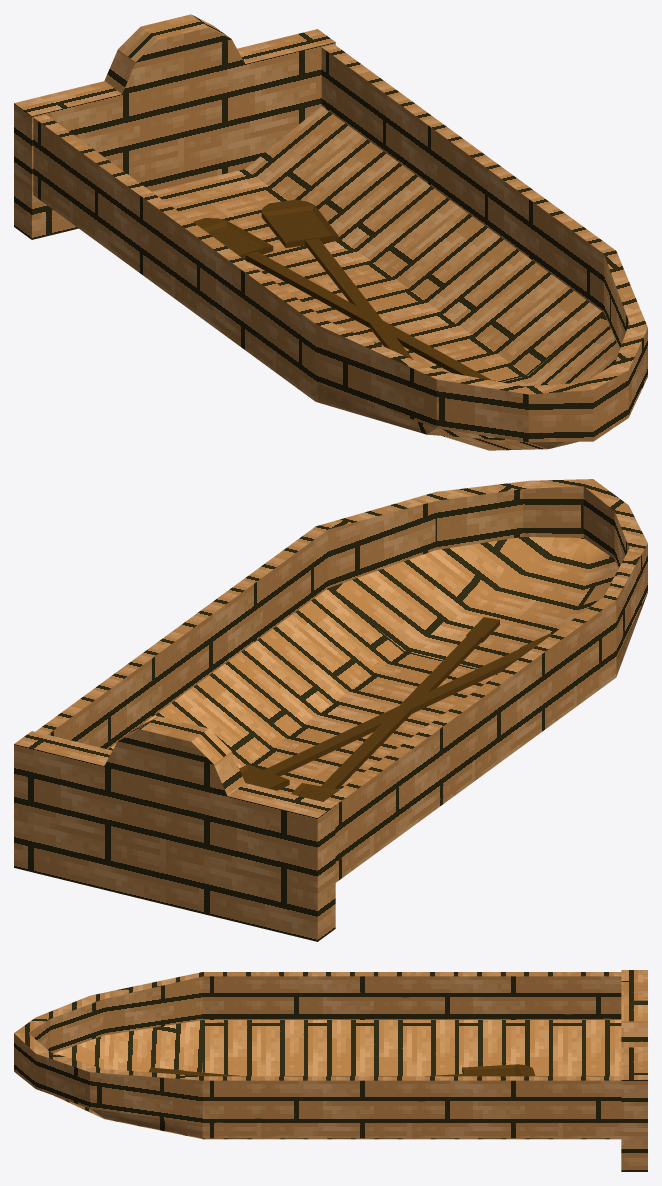
File: BLOCKYGON_WOODEN BOAT.fbx
3 renders of one model, top to bottom at view 1: azimuth 30°, elevation 25°; view 2: azimuth 150°, elevation 25°; view 3: azimuth 270°, elevation 25°, orthographic. The views are drawn at different scales.
Visible parts, largest first — view 1: BLOCKYGON_WOODEN_BOAT, PADDLES; view 2: BLOCKYGON_WOODEN_BOAT, PADDLES; view 3: BLOCKYGON_WOODEN_BOAT, PADDLES.
Boxes of the visible parts, box(x1,y1,x2,y2) form: BLOCKYGON_WOODEN_BOAT: box(14, 14, 647, 450); PADDLES: box(193, 199, 495, 381); BLOCKYGON_WOODEN_BOAT: box(14, 479, 647, 941); PADDLES: box(239, 617, 552, 801); BLOCKYGON_WOODEN_BOAT: box(14, 970, 647, 1171); PADDLES: box(148, 1064, 535, 1076).
Size of the model in its own units: 172 by 91.9 by 420.
2 materials, 2 textured.
